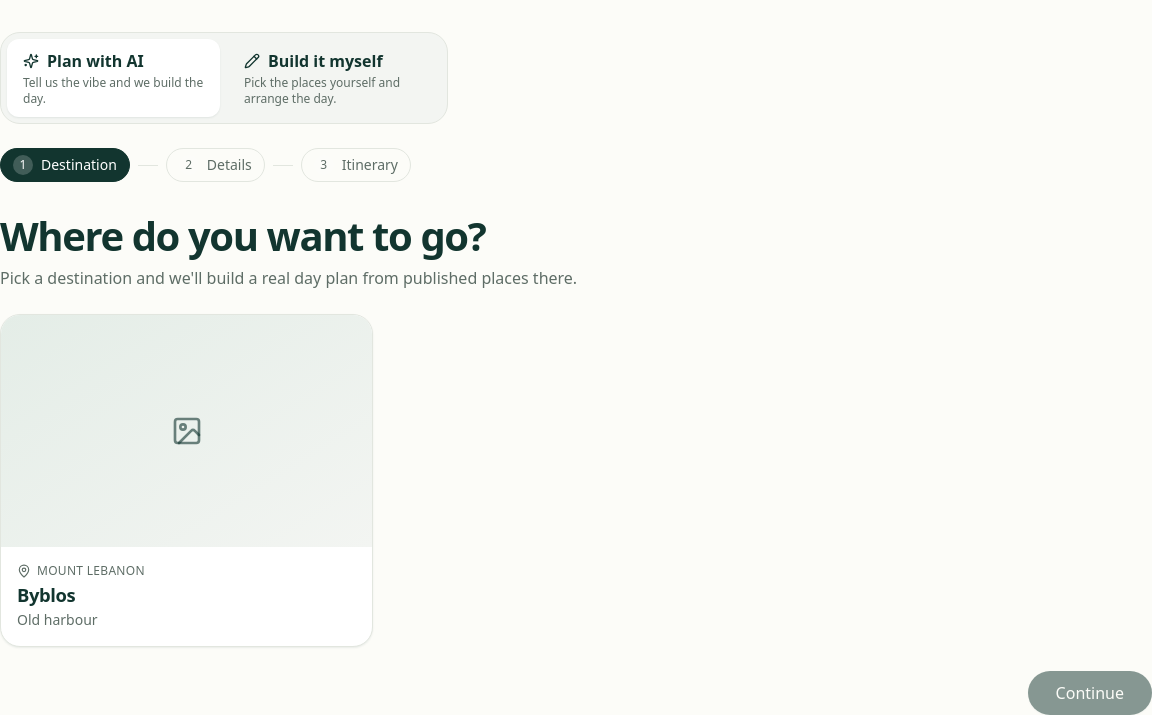
Test case: plan flow changes to an AI plan › asks again instead of applying a change it did not understand
The width and height of the screenshot is (1152, 715).
(page scrolled)
Click the button "Mount Lebanon Byblos Old harbour" at (187, 480), box [0,314,373,647]
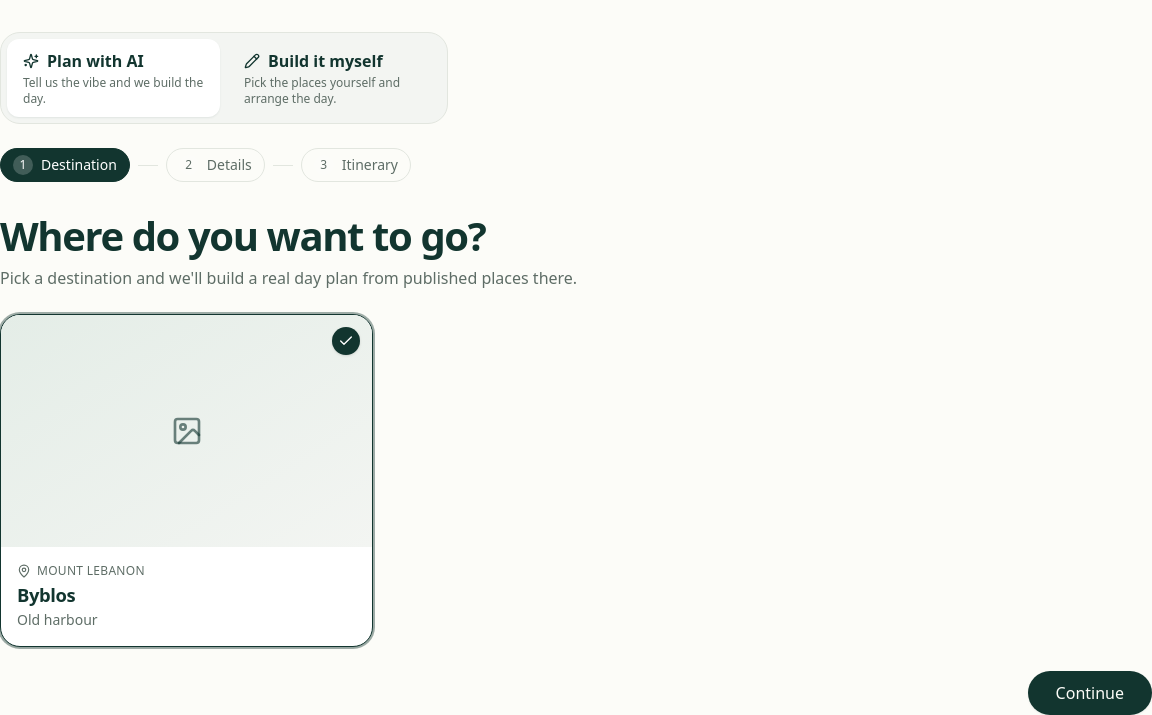
Click the button "Continue" at (1090, 693), box [1028,671,1151,714]
(page scrolled)
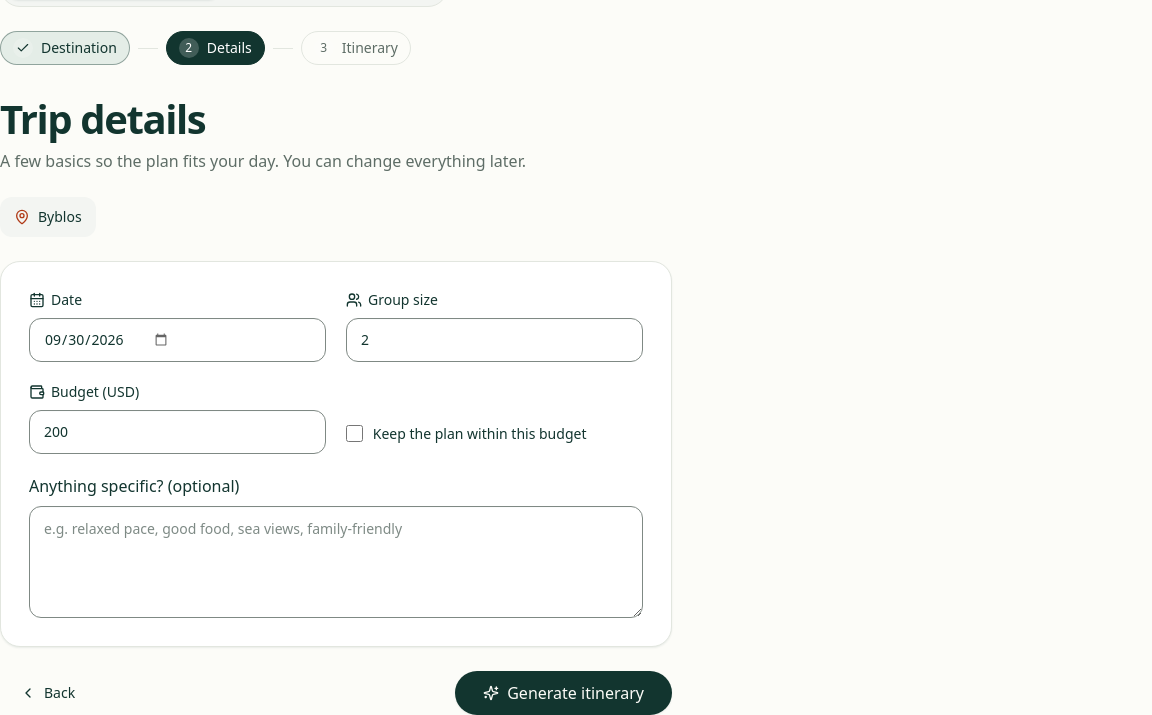
Click the button "Generate itinerary" at (564, 693), box [455,671,672,714]
(page scrolled)
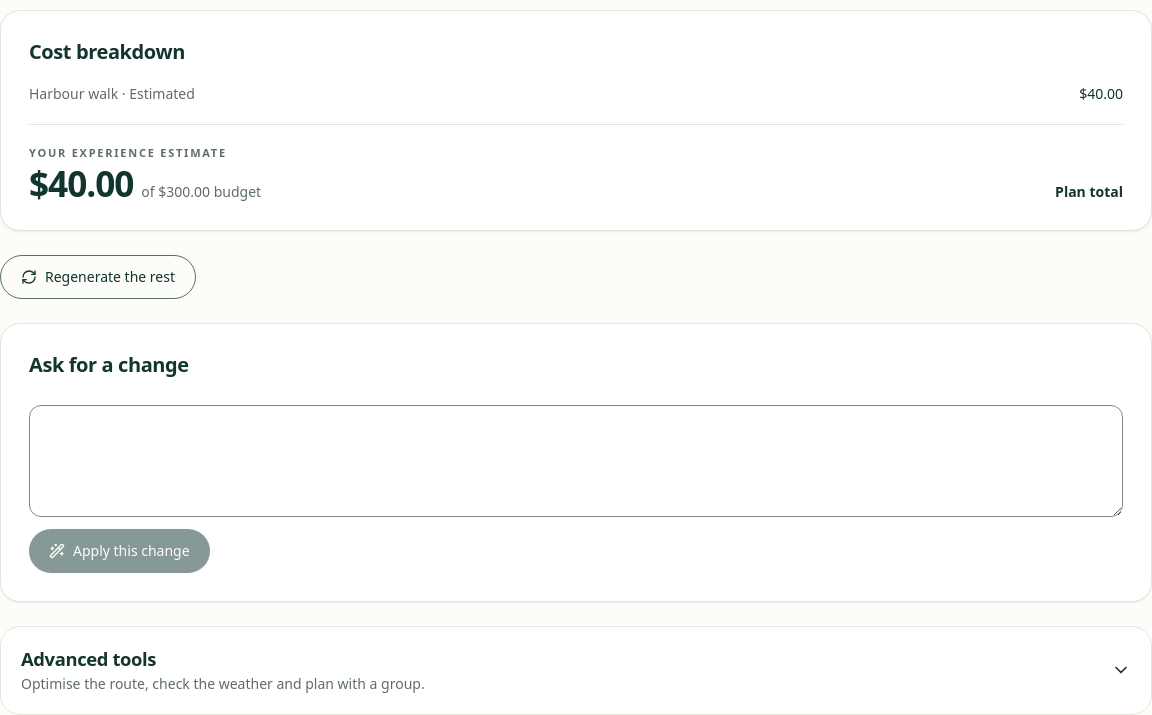
Type "hmm" into the text box named "Ask for a change" at (576, 461), box [29,405,1123,517]
(page scrolled)
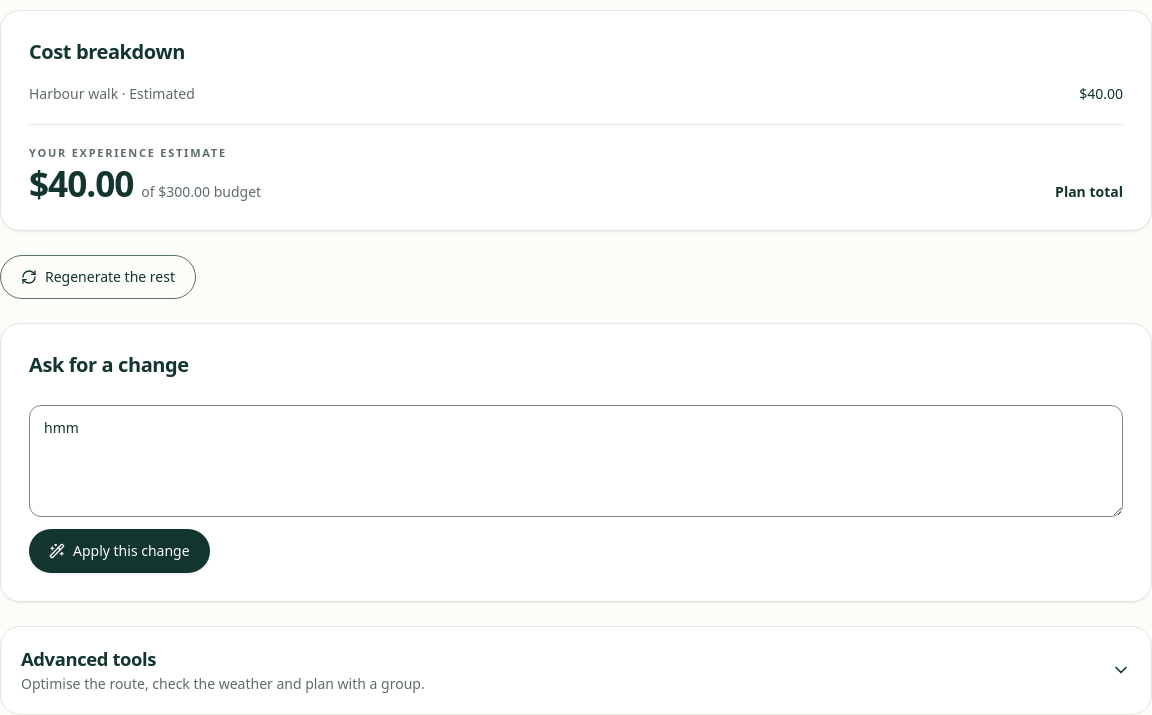
Click the button "Apply this change" at (119, 551), box [29,529,210,573]
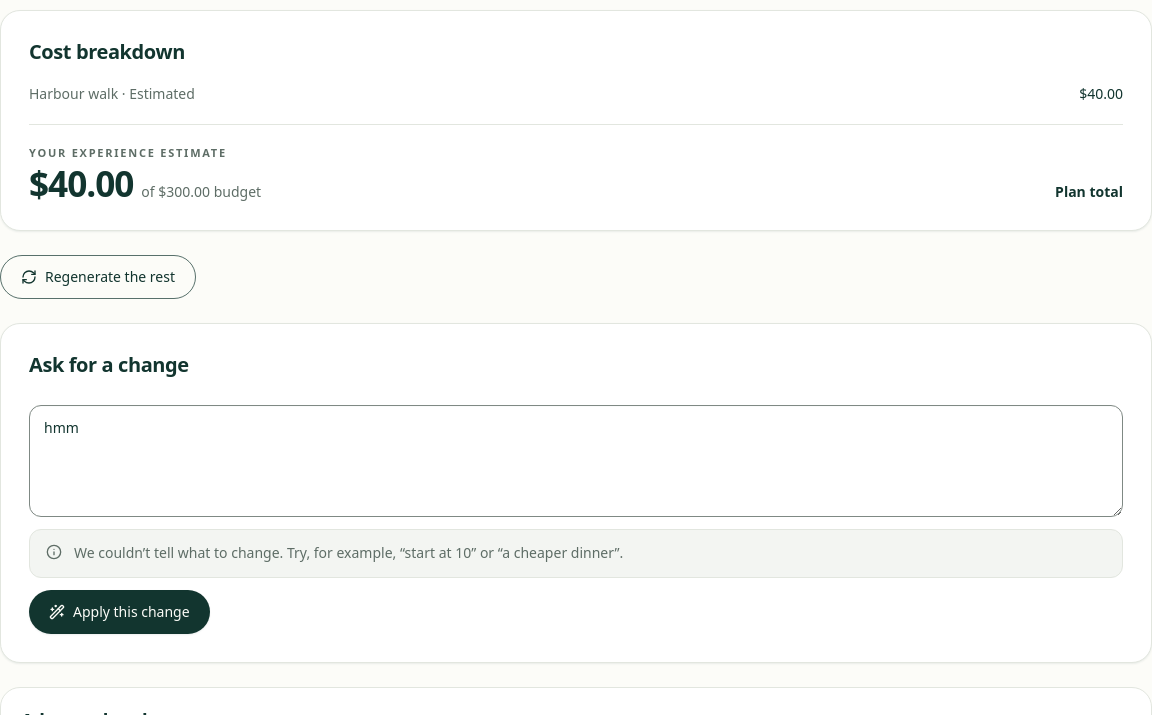
Now the text "We couldn’t tell what to change. Try, for example, “start at 10” or “a cheaper dinner”." is shown, box [74,543,623,562]
